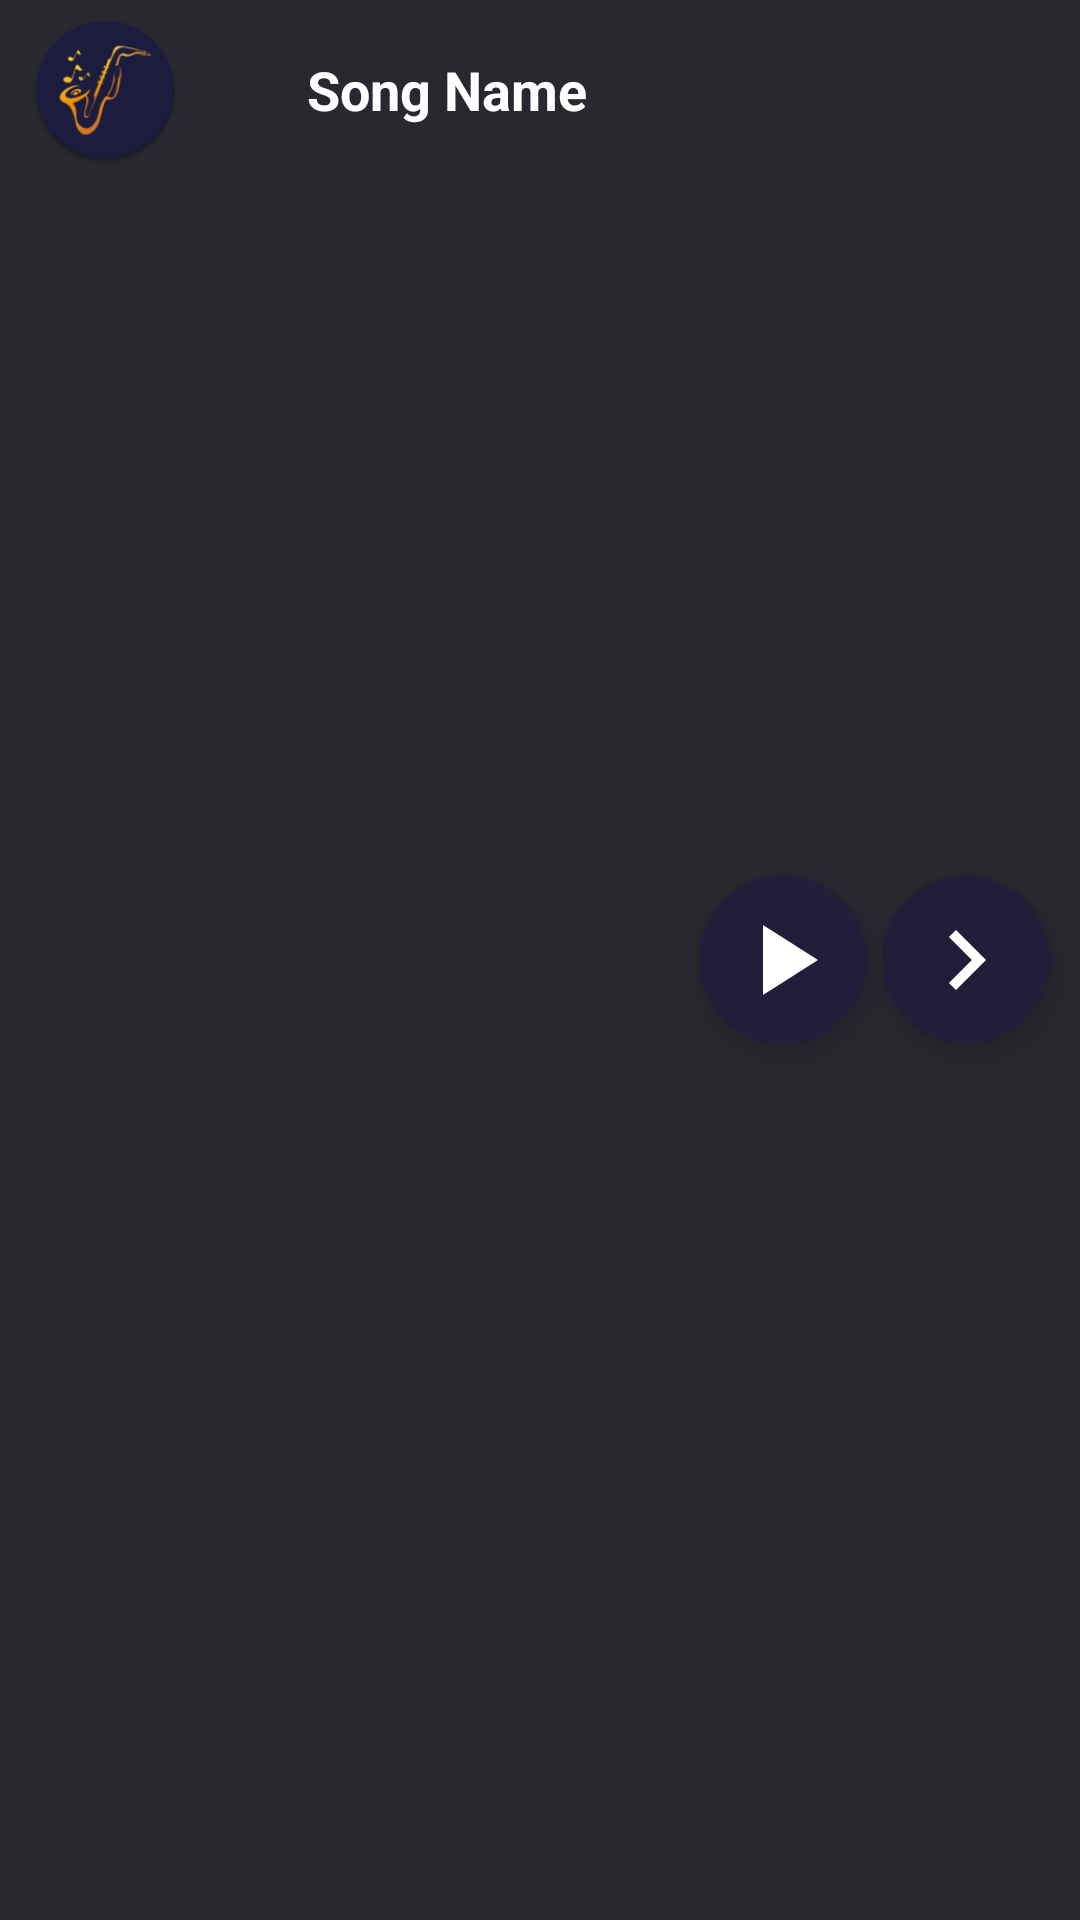

Point at icon controls on the screen. Image size 1080*1920, points as point (x, y).
next: point (966, 960)
play: point (790, 960)
